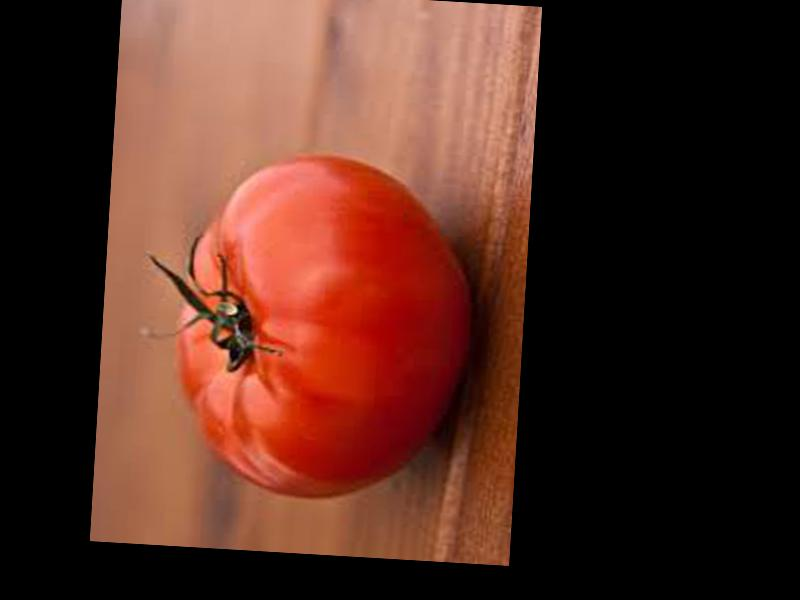Tomato: (169, 144, 480, 505)
